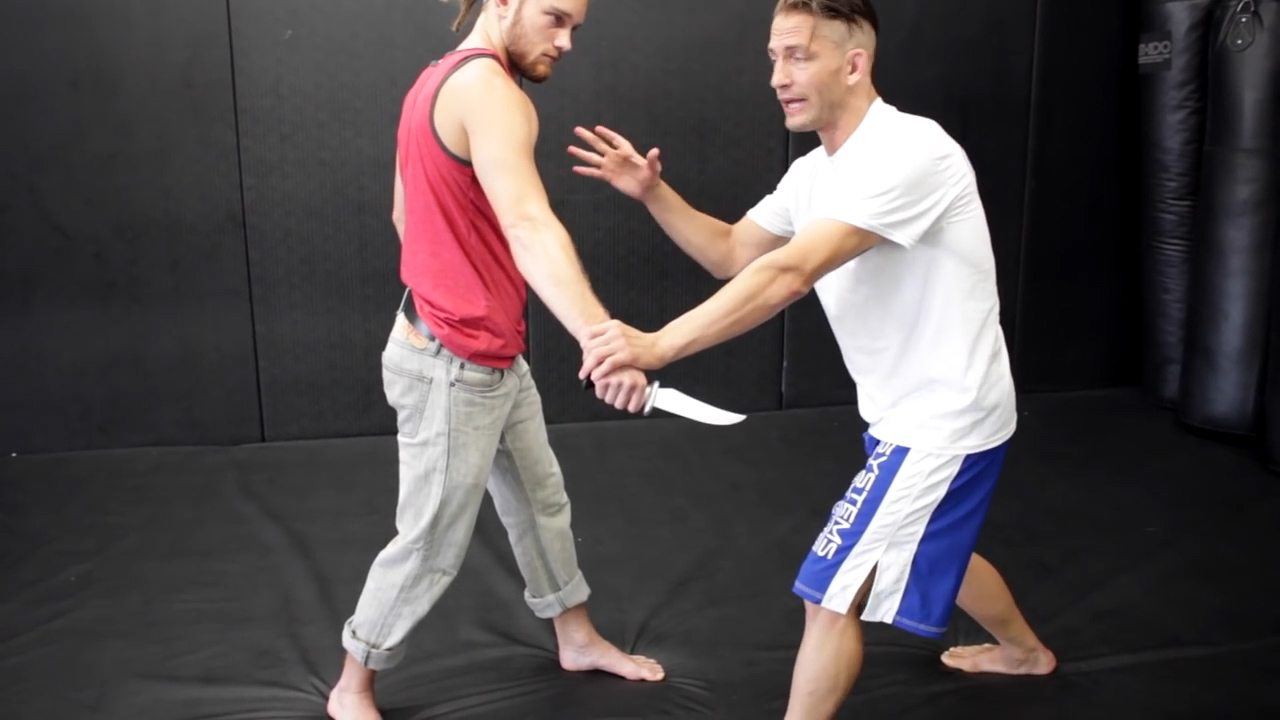knife: (579, 372, 756, 439)
